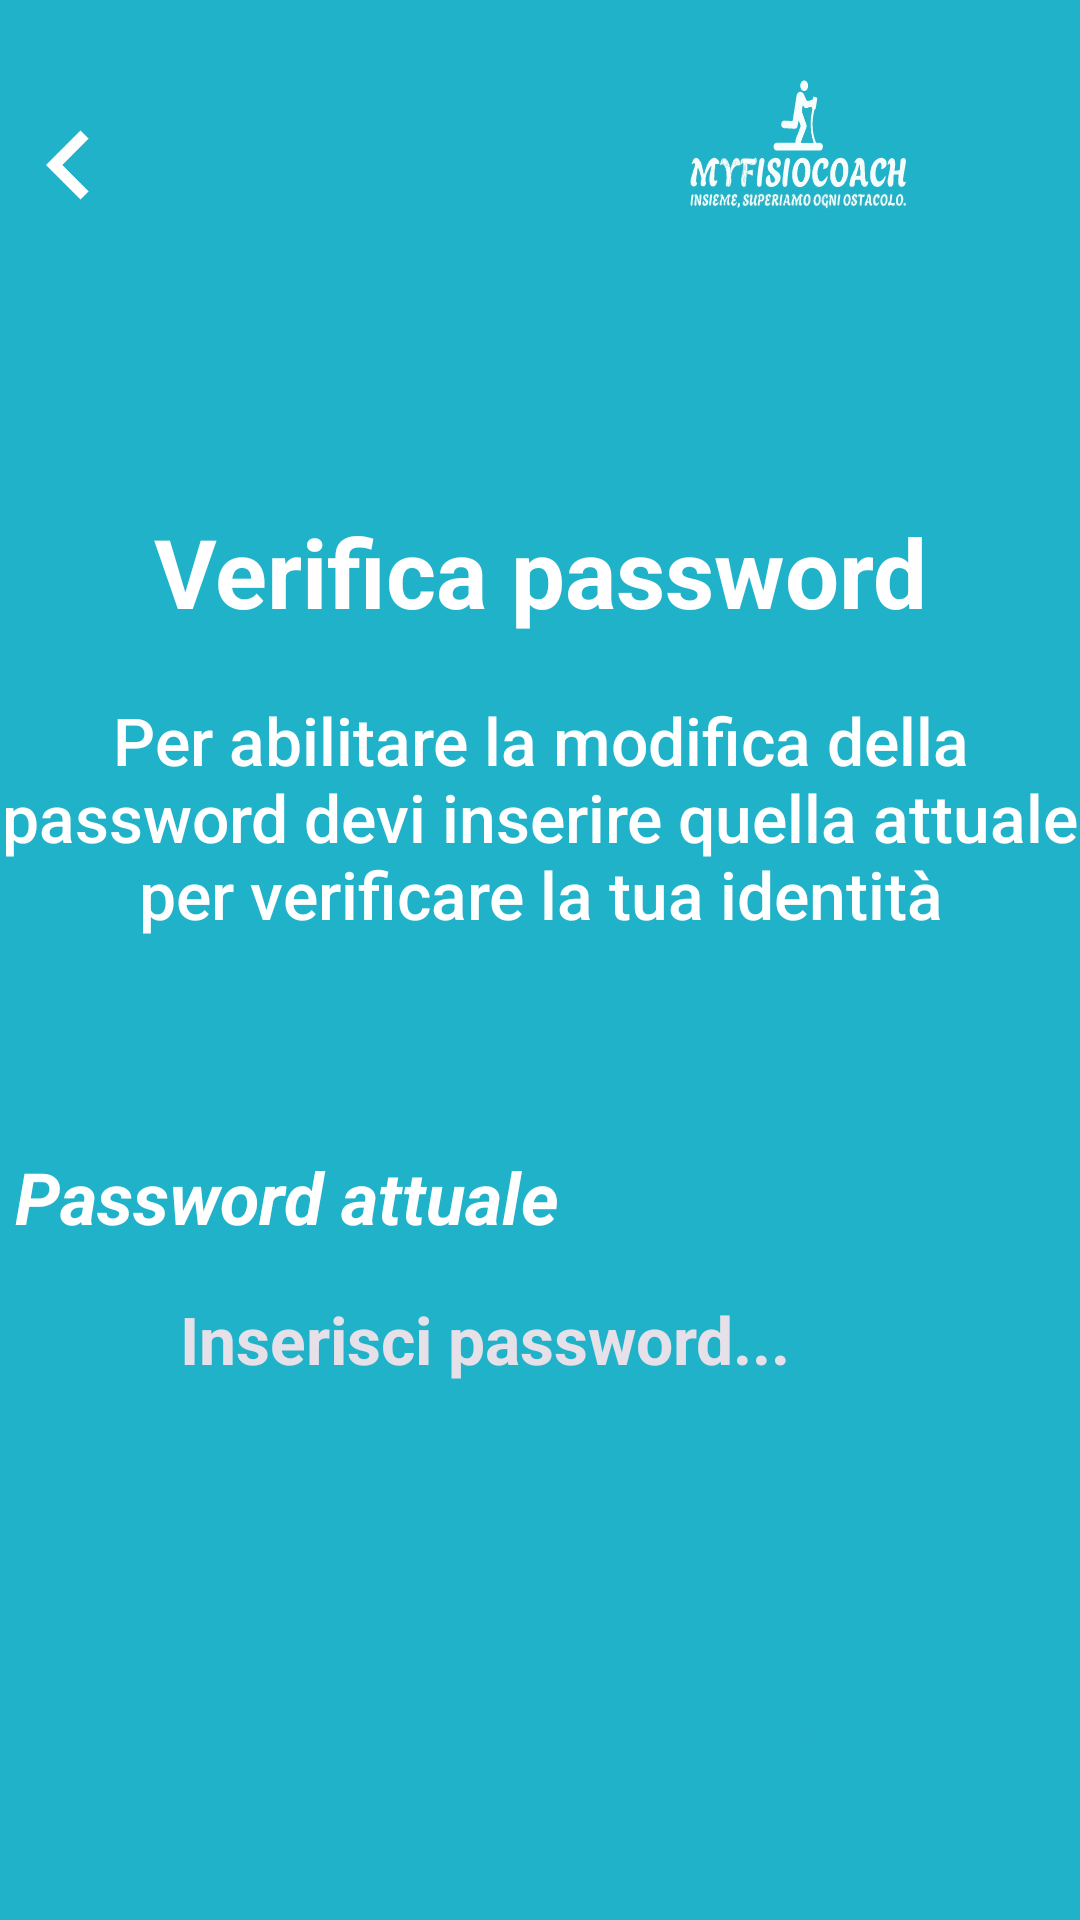

Icons on this 1080px×1920px Android screen, each with its box as (x1,y1,x2,y2):
chevron left: (46,130,89,200)
